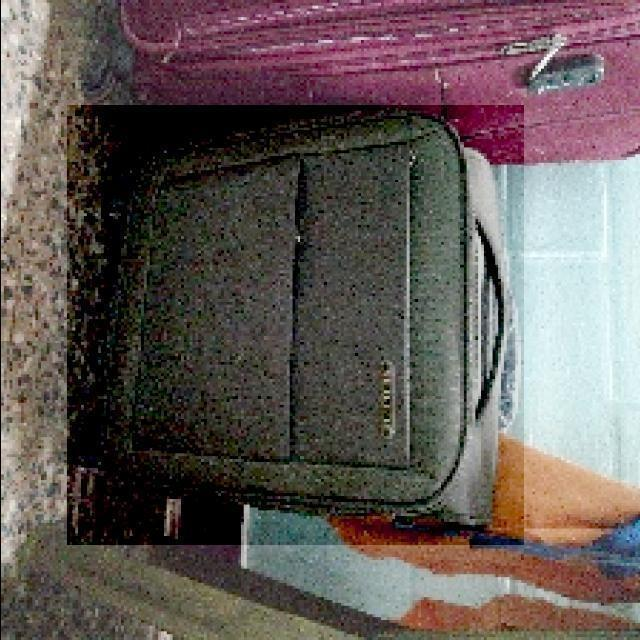Suitcase: (75, 110, 518, 544), (101, 0, 640, 160)
